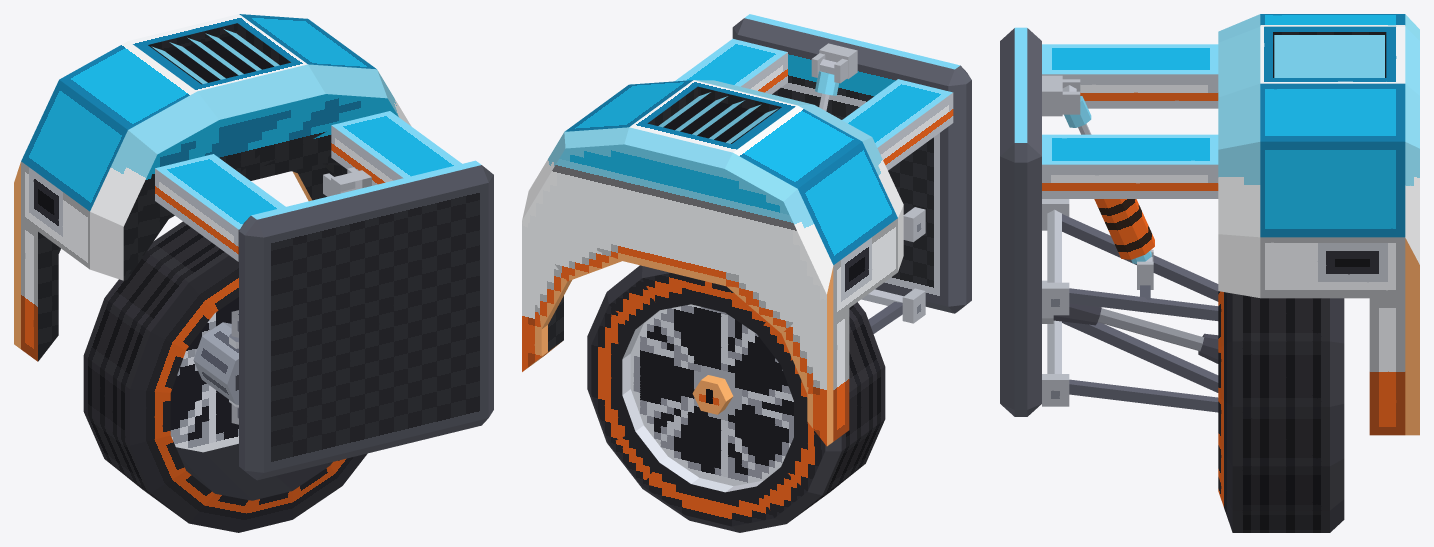
The model's file is aero_b_wheel.glb.
The picture shows the model from 3 angles, left to right: view 1: azimuth 30°, elevation 25°; view 2: azimuth 150°, elevation 25°; view 3: azimuth 270°, elevation 25°; orthographic projection. The views are drawn at different scales.
Parts seen in each view (by area): view 1: aero_b_wheel_pod, aero_b_wheel_tyre, aero_b_wheel_knuckle; view 2: aero_b_wheel_pod, aero_b_wheel_tyre, aero_b_wheel_arm_lo, aero_b_wheel_rod; view 3: aero_b_wheel_pod, aero_b_wheel_tyre, aero_b_wheel_arm_up, aero_b_wheel_arm_lo, aero_b_wheel_shaft, aero_b_wheel_damper, aero_b_wheel_rod.
Boxes of the visible parts, x1,y1,x2,y2 form: aero_b_wheel_pod: [14, 14, 493, 480]; aero_b_wheel_tyre: [83, 221, 367, 532]; aero_b_wheel_knuckle: [193, 322, 238, 407]; aero_b_wheel_pod: [522, 14, 971, 446]; aero_b_wheel_tyre: [587, 265, 885, 532]; aero_b_wheel_arm_lo: [861, 289, 903, 333]; aero_b_wheel_rod: [815, 59, 838, 110]; aero_b_wheel_pod: [1000, 14, 1419, 435]; aero_b_wheel_tyre: [1218, 291, 1344, 532]; aero_b_wheel_arm_up: [1047, 209, 1218, 320]; aero_b_wheel_arm_lo: [1047, 320, 1218, 412]; aero_b_wheel_shaft: [1053, 303, 1218, 363]; aero_b_wheel_damper: [1094, 199, 1154, 263]; aero_b_wheel_rod: [1062, 85, 1091, 134].
Size of the model in its own units: 0.94 by 1.21 by 1.
Materials: 1 (1 with a texture image).
